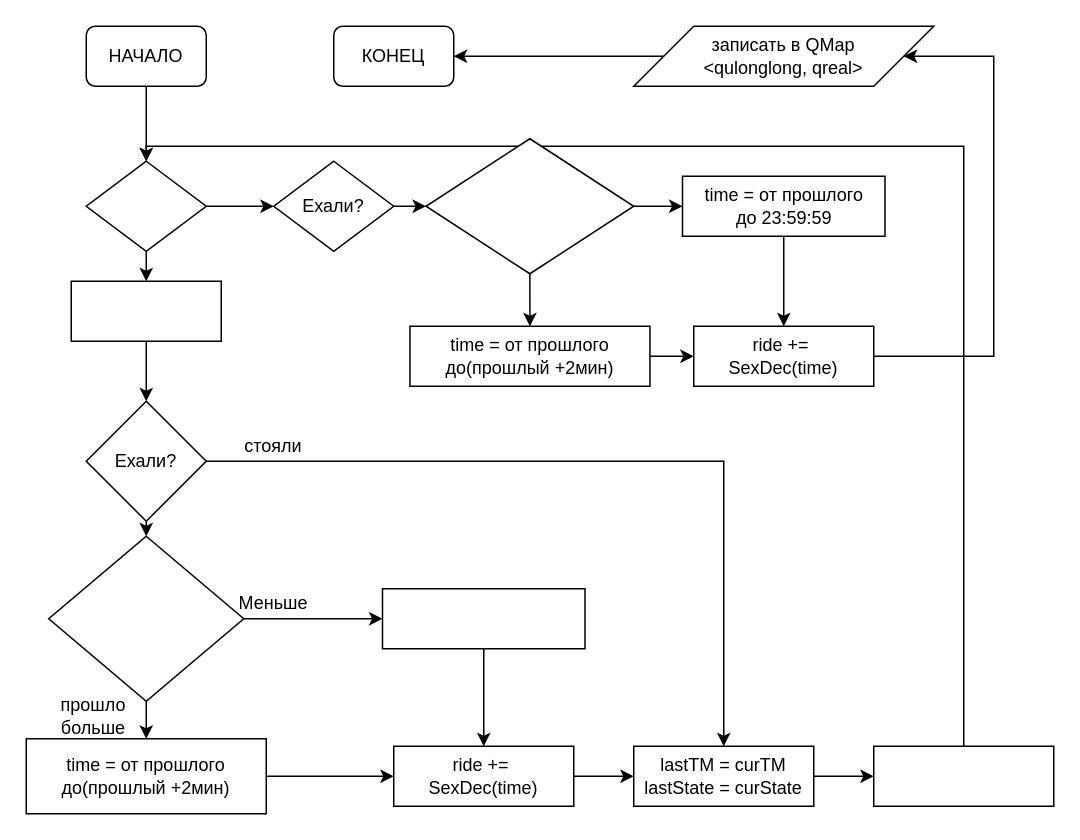
The diagram is 1080 pixels wide and 840 high, and some of its shapes have lost their labels. Each missing label, with the centre of its shape:
dic.isEmpty?: the point at 145,205
dic.remove(First): the point at 963,775
dic.takeFirst: the point at 145,310
time = от прошлого до этого: the point at 483,618
ОТ прошлого До этого < 2 мин?: the point at 145,618
Через 2 минуты новый день?: the point at 529,205
